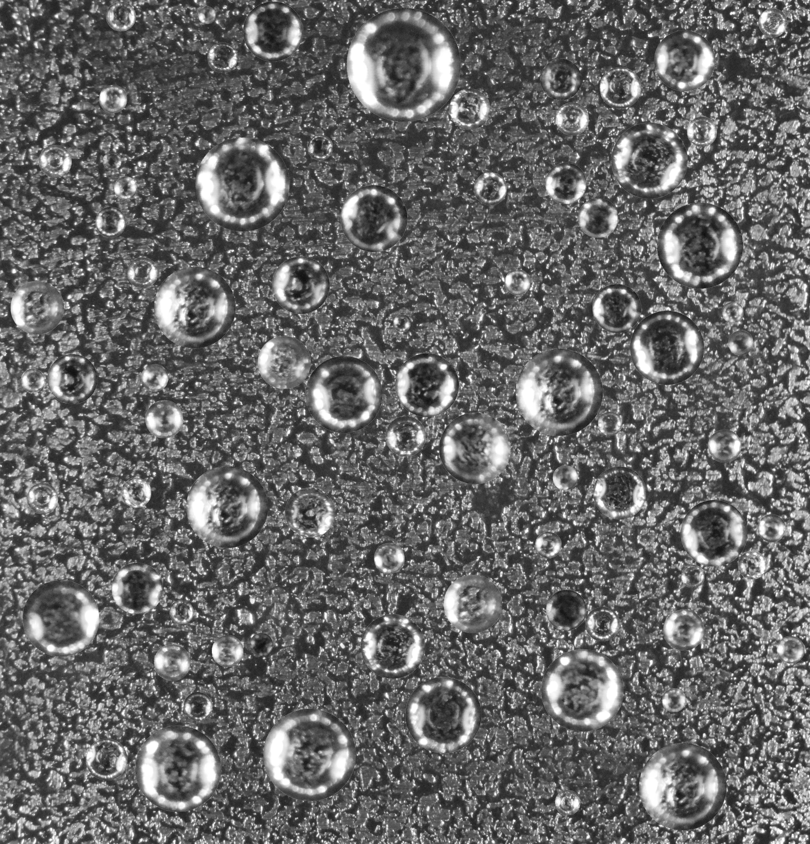Bubble: (346, 7, 460, 121), (195, 137, 289, 231), (263, 708, 355, 801), (515, 348, 602, 435), (639, 743, 726, 830), (135, 725, 221, 811), (657, 202, 743, 288), (541, 649, 623, 731), (154, 266, 235, 348), (186, 466, 267, 547), (305, 356, 382, 432), (22, 580, 99, 656), (611, 122, 687, 198), (405, 677, 481, 753), (630, 310, 704, 384), (439, 412, 510, 484), (340, 185, 407, 251), (680, 500, 747, 566), (360, 614, 425, 678), (395, 353, 458, 416), (654, 30, 715, 91), (243, 1, 302, 61), (443, 574, 502, 633), (272, 256, 329, 313), (10, 281, 63, 334), (593, 466, 646, 519), (257, 336, 310, 388), (111, 562, 162, 614), (285, 487, 335, 537), (47, 354, 97, 404), (592, 284, 641, 332), (85, 738, 127, 780), (540, 58, 581, 100), (599, 67, 641, 108), (449, 88, 490, 129), (663, 609, 704, 650), (545, 162, 586, 203), (546, 589, 586, 630), (385, 416, 425, 456), (578, 197, 618, 237), (145, 400, 183, 438), (154, 644, 190, 680), (585, 607, 619, 641), (708, 429, 741, 462), (38, 144, 71, 177), (555, 102, 588, 135), (474, 172, 506, 205), (26, 482, 58, 514), (211, 635, 243, 666), (95, 206, 125, 237), (127, 257, 157, 288), (687, 116, 717, 146), (207, 42, 237, 72), (121, 477, 151, 507), (374, 543, 404, 573), (106, 1, 135, 31), (183, 692, 212, 720), (758, 8, 787, 36), (738, 550, 766, 579), (757, 514, 785, 542), (99, 84, 127, 112), (777, 636, 804, 663), (141, 364, 168, 391), (535, 531, 561, 558), (504, 269, 530, 295), (307, 134, 332, 160), (552, 465, 577, 490), (555, 790, 580, 815), (728, 330, 753, 355), (169, 600, 193, 624), (598, 411, 622, 435), (20, 368, 44, 392), (662, 688, 686, 712), (681, 564, 704, 588), (249, 633, 272, 656), (114, 176, 137, 199), (722, 301, 743, 323), (102, 151, 121, 170), (393, 314, 410, 331), (198, 6, 215, 23)
